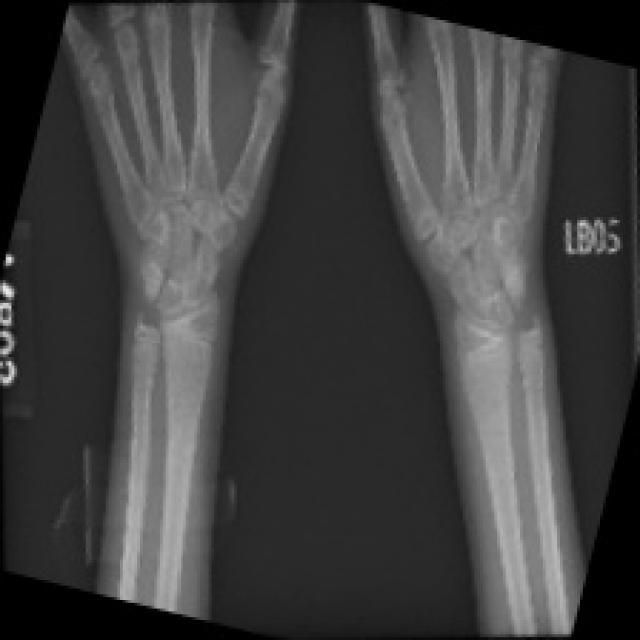fracture: (123, 262, 221, 364), (487, 262, 574, 372)
